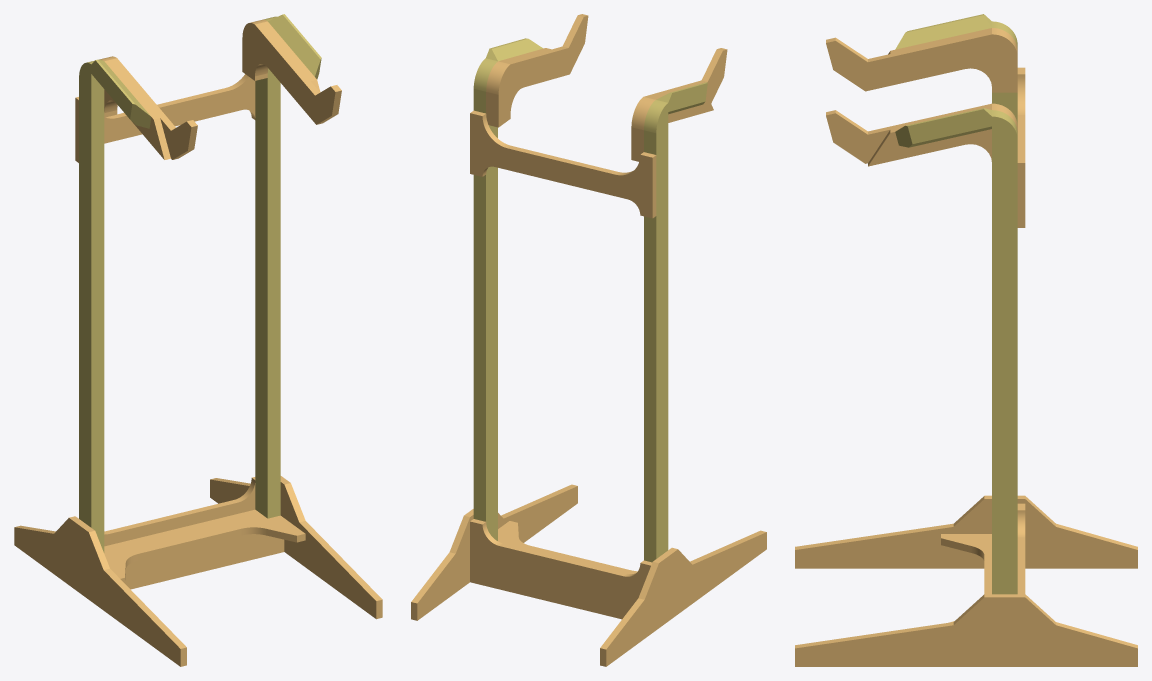
File: Spine_Decompression.obj
The picture shows the model from 3 angles, left to right: view 1: azimuth 30°, elevation 25°; view 2: azimuth 150°, elevation 25°; view 3: azimuth 270°, elevation 25°; orthographic projection. The views are drawn at different scales.
Parts seen in each view (by area): view 1: Spine_Decompression-COM-Vertical_post-2661-Wood_Board_Cork, Spine_Decompression-COM-Vertical_post-2795-Wood_Board_Cork, Spine_Decompression-COM-Foot-3521-Wood_OSB, Spine_Decompression-COM-Foot-3069-Wood_OSB, Spine_Decompression-COM-Floor-4393-Wood_OSB, Spine_Decompression-COM-Foot_front_wall-3548-Wood_OSB, Spine_Decompression-COM-Arm_Handle-9056-Wood_OSB1, Spine_Decompression-COM-Brace_Top_Horizontal-5334-Wood_OSB, Spine_Decompression-COM-Foot_back_wall-3642-Wood_OSB, Spine_Decompression-COM-Arm_Handle-8110-Wood_OSB1, Spine_Decompression-COM-Elbow_Rest-9081-Wood_Board_Cork, Spine_Decompression-COM-Brace_Elboww-7445-Wood_OSB (+2 smaller); view 2: Spine_Decompression-COM-Vertical_post-2661-Wood_Board_Cork, Spine_Decompression-COM-Vertical_post-2795-Wood_Board_Cork, Spine_Decompression-COM-Foot_back_wall-3642-Wood_OSB, Spine_Decompression-COM-Foot-3521-Wood_OSB, Spine_Decompression-COM-Brace_Top_Horizontal-5334-Wood_OSB, Spine_Decompression-COM-Foot-3069-Wood_OSB, Spine_Decompression-COM-Arm_Handle-9056-Wood_OSB1, Spine_Decompression-COM-Arm_Handle-8110-Wood_OSB1, Spine_Decompression-COM-Floor-4393-Wood_OSB, Spine_Decompression-COM-Brace_Elboww-7445-Wood_OSB, Spine_Decompression-COM-Elbow_Rest-9081-Wood_Board_Cork, Spine_Decompression-COM-Elbow_Rest_1-9817-Wood_Board_Cork (+1 smaller); view 3: Spine_Decompression-COM-Foot-3069-Wood_OSB, Spine_Decompression-COM-Vertical_post-2795-Wood_Board_Cork, Spine_Decompression-COM-Foot-3521-Wood_OSB, Spine_Decompression-COM-Arm_Handle-8110-Wood_OSB1, Spine_Decompression-COM-Arm_Handle-9056-Wood_OSB1, Spine_Decompression-COM-Elbow_Rest_1-9817-Wood_Board_Cork, Spine_Decompression-COM-Brace_Elboww-7963-Wood_OSB, Spine_Decompression-COM-Elbow_Rest-9081-Wood_Board_Cork, Spine_Decompression-COM-Brace_Top_Horizontal-5334-Wood_OSB, Spine_Decompression-COM-Floor-4393-Wood_OSB, Spine_Decompression-COM-Foot_back_wall-3642-Wood_OSB, Spine_Decompression-COM-Vertical_post-2661-Wood_Board_Cork (+1 smaller).
Part boxes in pixels (left/top/right/bottom): Spine_Decompression-COM-Vertical_post-2661-Wood_Board_Cork: left=79, top=59, right=104, bottom=552; Spine_Decompression-COM-Vertical_post-2795-Wood_Board_Cork: left=255, top=16, right=280, bottom=518; Spine_Decompression-COM-Foot-3521-Wood_OSB: left=14, top=516, right=186, bottom=666; Spine_Decompression-COM-Foot-3069-Wood_OSB: left=210, top=476, right=382, bottom=619; Spine_Decompression-COM-Floor-4393-Wood_OSB: left=104, top=509, right=305, bottom=583; Spine_Decompression-COM-Foot_front_wall-3548-Wood_OSB: left=125, top=534, right=284, bottom=589; Spine_Decompression-COM-Arm_Handle-9056-Wood_OSB1: left=242, top=21, right=341, bottom=124; Spine_Decompression-COM-Brace_Top_Horizontal-5334-Wood_OSB: left=75, top=74, right=255, bottom=162; Spine_Decompression-COM-Foot_back_wall-3642-Wood_OSB: left=104, top=477, right=255, bottom=546; Spine_Decompression-COM-Arm_Handle-8110-Wood_OSB1: left=106, top=56, right=197, bottom=159; Spine_Decompression-COM-Elbow_Rest-9081-Wood_Board_Cork: left=91, top=59, right=151, bottom=128; Spine_Decompression-COM-Brace_Elboww-7445-Wood_OSB: left=99, top=58, right=170, bottom=159; Spine_Decompression-COM-Vertical_post-2661-Wood_Board_Cork: left=644, top=100, right=668, bottom=562; Spine_Decompression-COM-Vertical_post-2795-Wood_Board_Cork: left=473, top=58, right=497, bottom=540; Spine_Decompression-COM-Foot_back_wall-3642-Wood_OSB: left=470, top=519, right=652, bottom=619; Spine_Decompression-COM-Foot-3521-Wood_OSB: left=600, top=530, right=766, bottom=666; Spine_Decompression-COM-Brace_Top_Horizontal-5334-Wood_OSB: left=470, top=110, right=656, bottom=218; Spine_Decompression-COM-Foot-3069-Wood_OSB: left=411, top=484, right=577, bottom=620; Spine_Decompression-COM-Arm_Handle-9056-Wood_OSB1: left=492, top=14, right=588, bottom=127; Spine_Decompression-COM-Arm_Handle-8110-Wood_OSB1: left=631, top=48, right=727, bottom=161; Spine_Decompression-COM-Floor-4393-Wood_OSB: left=498, top=521, right=637, bottom=573; Spine_Decompression-COM-Brace_Elboww-7445-Wood_OSB: left=637, top=92, right=713, bottom=161; Spine_Decompression-COM-Elbow_Rest-9081-Wood_Board_Cork: left=656, top=82, right=707, bottom=114; Spine_Decompression-COM-Elbow_Rest_1-9817-Wood_Board_Cork: left=486, top=38, right=543, bottom=61; Spine_Decompression-COM-Foot-3069-Wood_OSB: left=795, top=594, right=1137, bottom=666; Spine_Decompression-COM-Vertical_post-2795-Wood_Board_Cork: left=992, top=110, right=1017, bottom=594; Spine_Decompression-COM-Foot-3521-Wood_OSB: left=795, top=495, right=1137, bottom=568; Spine_Decompression-COM-Arm_Handle-8110-Wood_OSB1: left=826, top=31, right=1017, bottom=92; Spine_Decompression-COM-Arm_Handle-9056-Wood_OSB1: left=826, top=103, right=1017, bottom=163; Spine_Decompression-COM-Elbow_Rest_1-9817-Wood_Board_Cork: left=895, top=108, right=991, bottom=147; Spine_Decompression-COM-Brace_Elboww-7963-Wood_OSB: left=868, top=107, right=1017, bottom=166; Spine_Decompression-COM-Elbow_Rest-9081-Wood_Board_Cork: left=895, top=14, right=991, bottom=49; Spine_Decompression-COM-Brace_Top_Horizontal-5334-Wood_OSB: left=1017, top=67, right=1025, bottom=227; Spine_Decompression-COM-Floor-4393-Wood_OSB: left=941, top=534, right=991, bottom=622; Spine_Decompression-COM-Foot_back_wall-3642-Wood_OSB: left=1017, top=503, right=1025, bottom=594; Spine_Decompression-COM-Vertical_post-2661-Wood_Board_Cork: left=992, top=21, right=1017, bottom=124.
Size of the model in its own units: 0.5969 by 1.52 by 0.8509.
